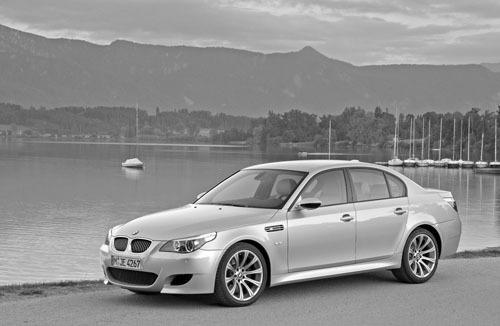car: (101, 160, 464, 308)
